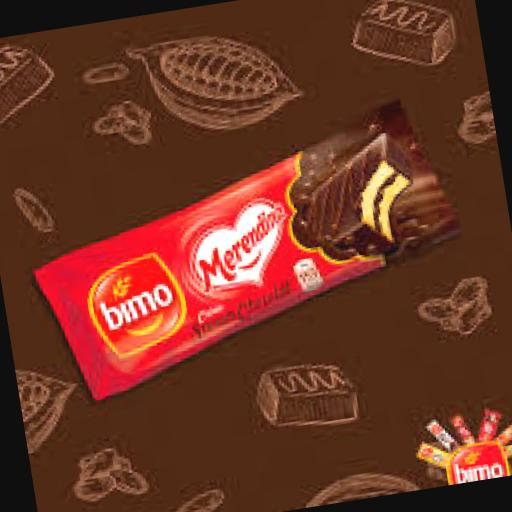merendina: (32, 120, 473, 371)
